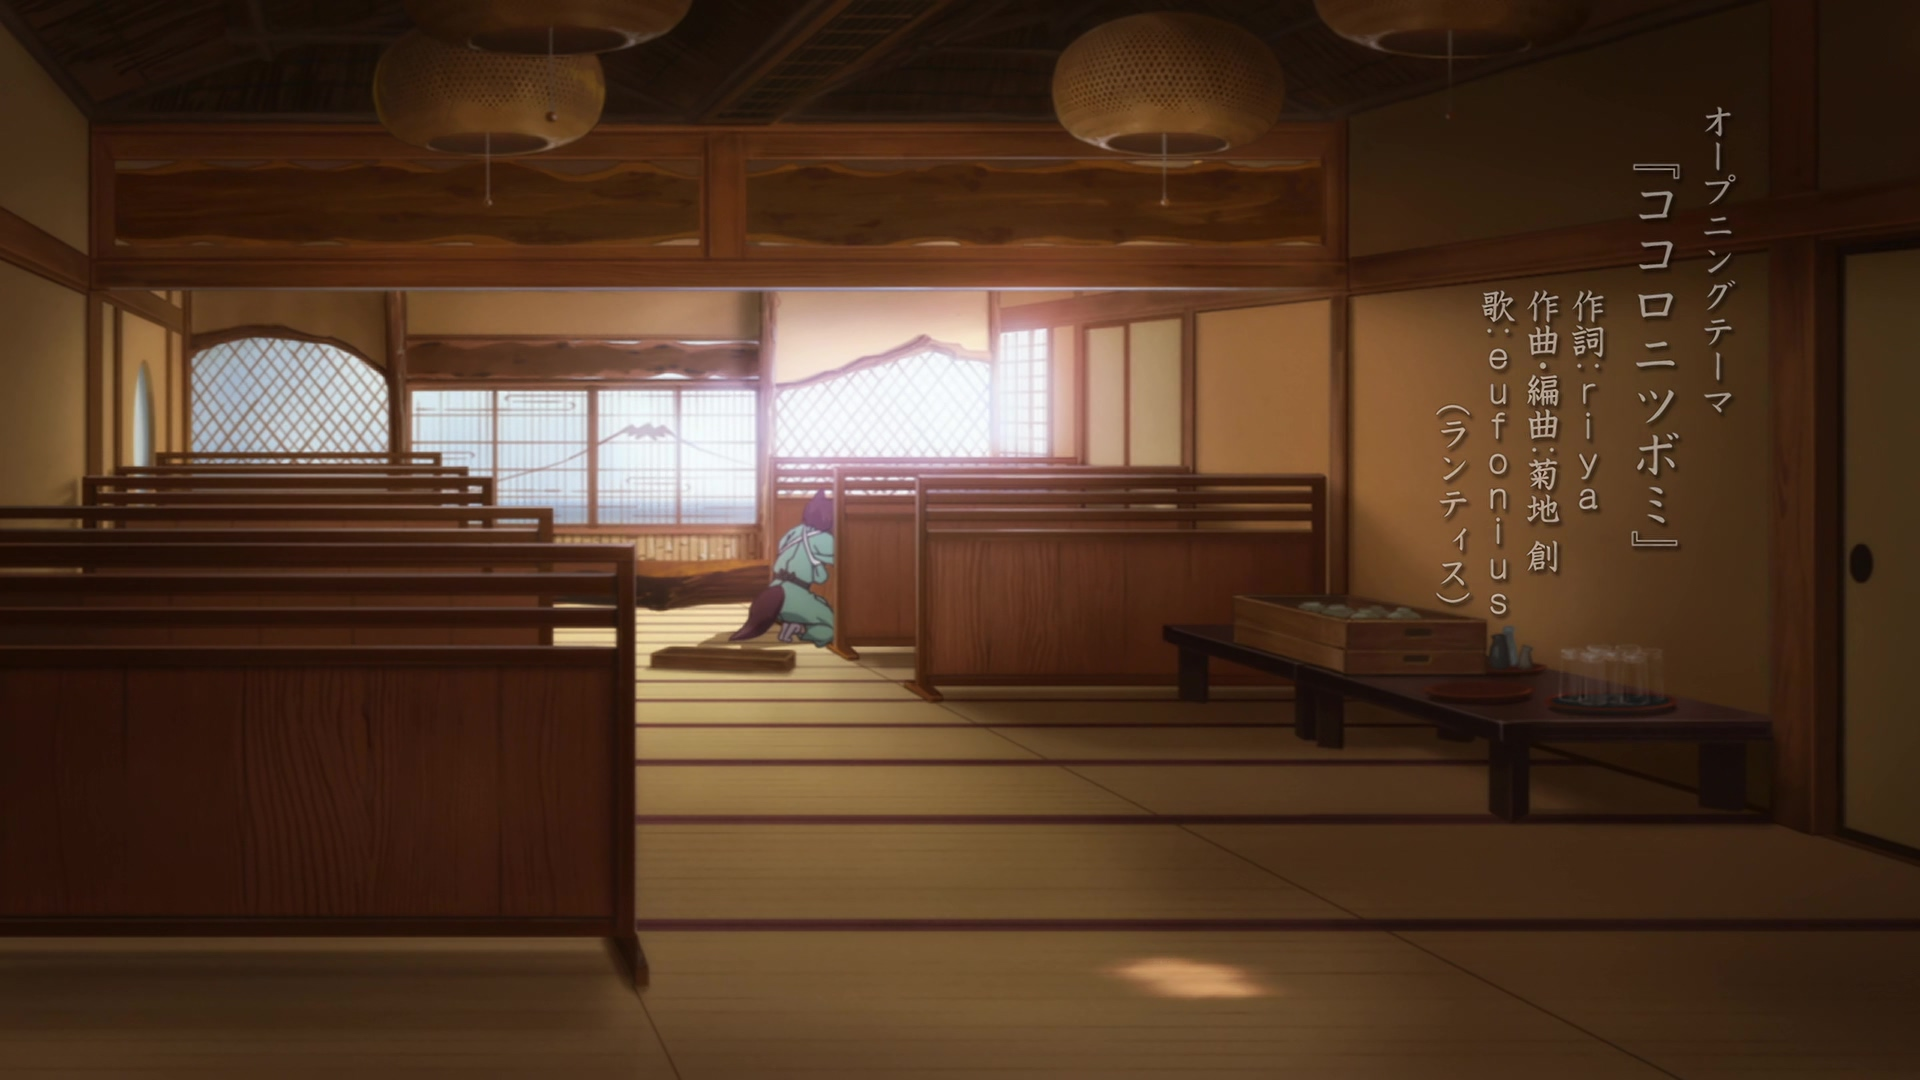枣: (725, 487, 844, 650)
